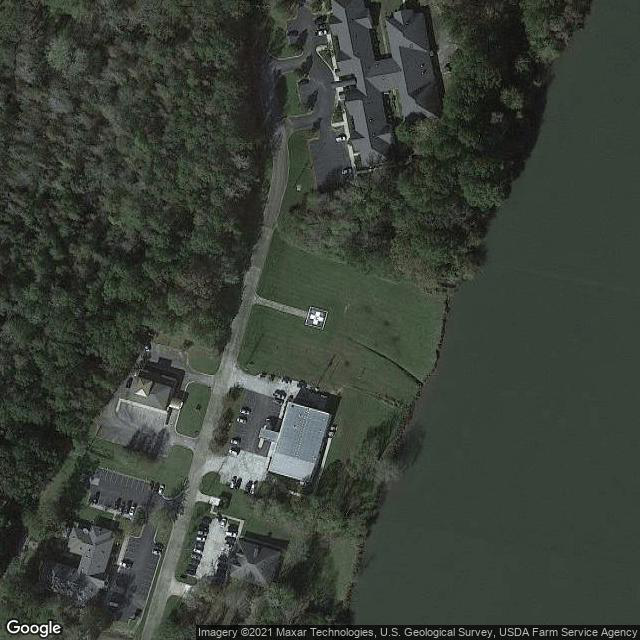Helipad: (302, 302, 329, 331)
